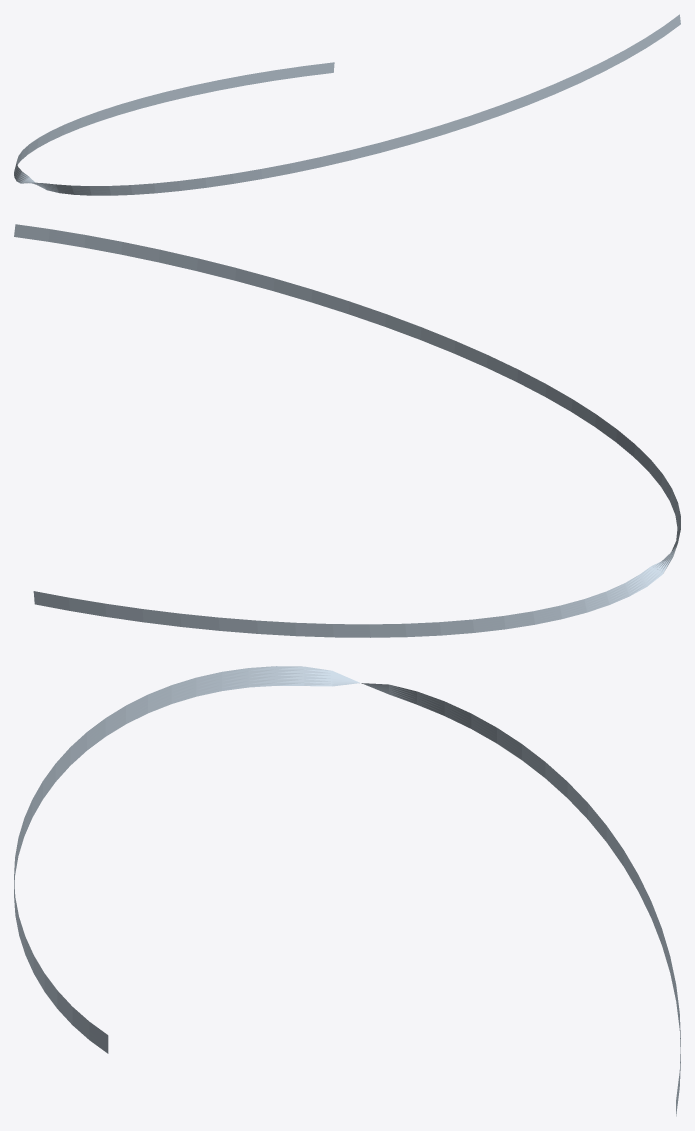
The model's file is 2085_ElectricRebirth_State_OwnRebirthFlow_2.fbx.
3 renders of one model, top to bottom at view 1: azimuth 30°, elevation 25°; view 2: azimuth 150°, elevation 25°; view 3: azimuth 270°, elevation 25°, orthographic. The views are drawn at different scales.
Parts seen in each view (by area): view 1: PART_Electro_OwnRebirthFlow_2; view 2: PART_Electro_OwnRebirthFlow_2; view 3: PART_Electro_OwnRebirthFlow_2.
Part boxes in pixels (x1,y1,x2,y2): PART_Electro_OwnRebirthFlow_2: (14,14,680,195); PART_Electro_OwnRebirthFlow_2: (14,224,680,637); PART_Electro_OwnRebirthFlow_2: (14,666,680,1116).
Size of the model in its own units: 188 by 41.58 by 108.
